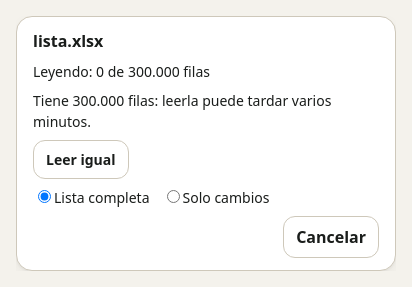
subir una lista › price-lists-R4.12: una planilla muy grande pregunta antes de leerla; «Leer igual» sigue
Click the button "Leer igual" at (81, 160), box x1=33 y1=140 x2=128 y2=179
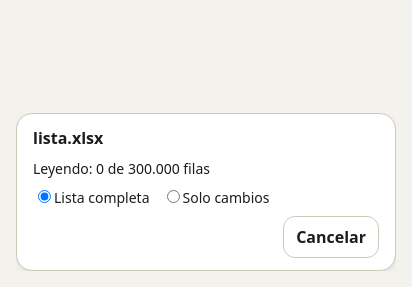
Result: the button "Leer igual" is gone
